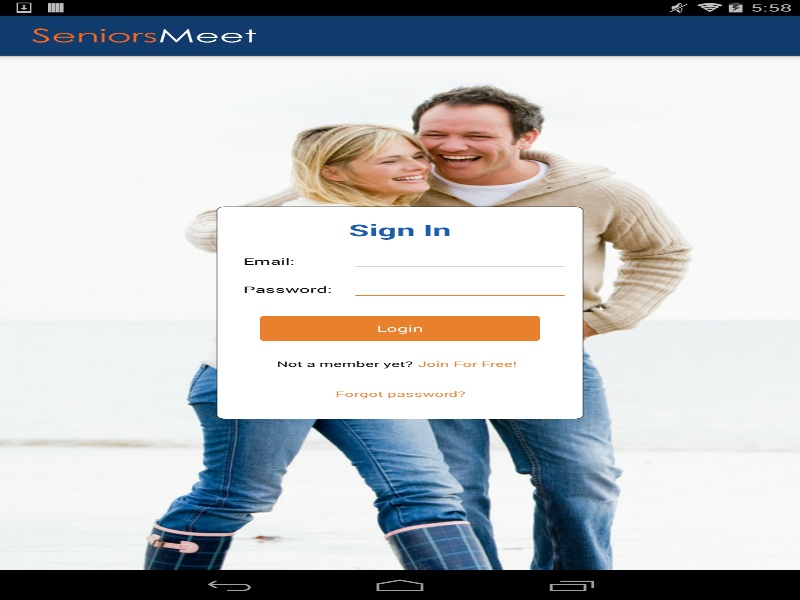Button: (253, 312, 546, 344), (329, 379, 470, 409), (412, 349, 522, 379)
Input: (350, 250, 570, 272), (350, 278, 570, 300)
